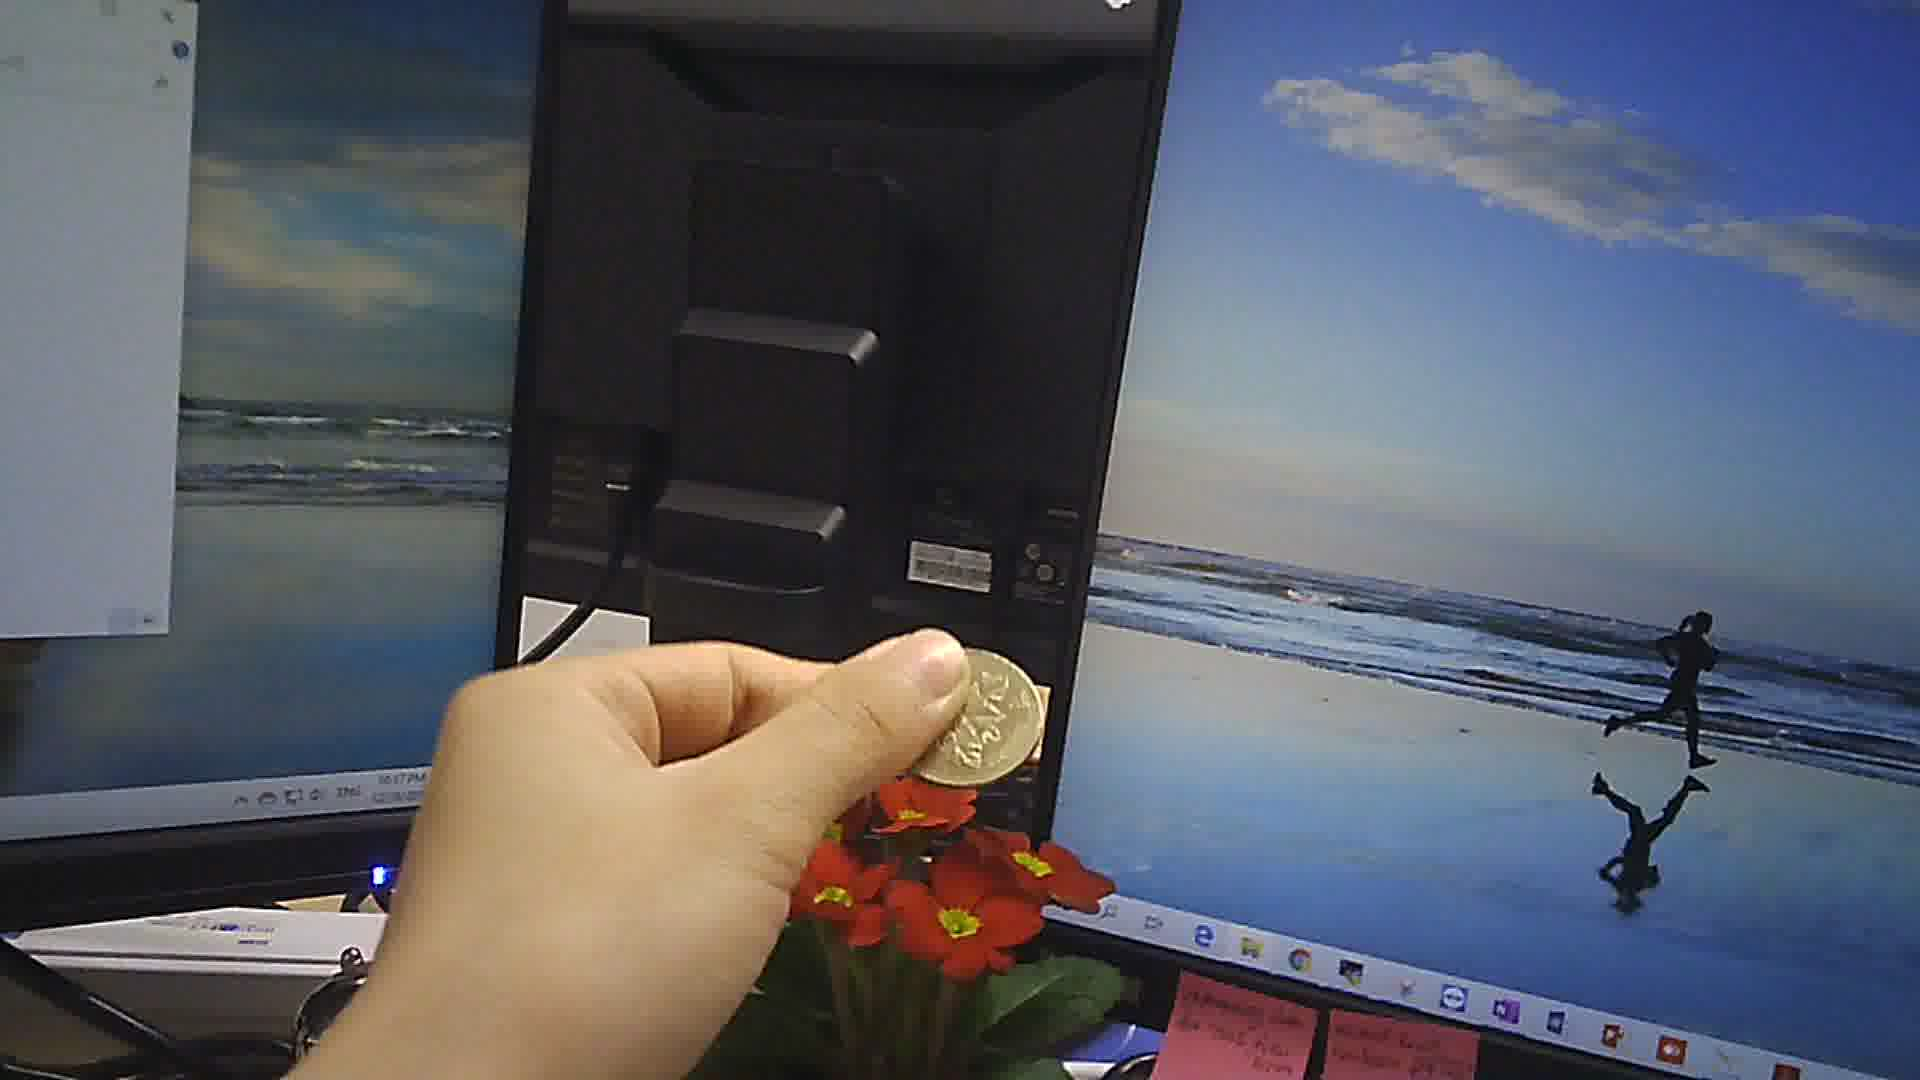500 Yen: (899, 642, 1044, 779)
